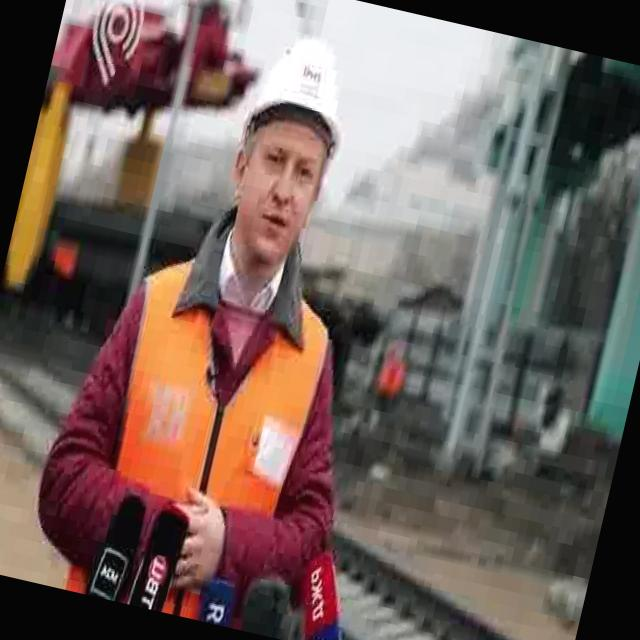helmet: (240, 16, 366, 158)
vest: (59, 236, 342, 634)
